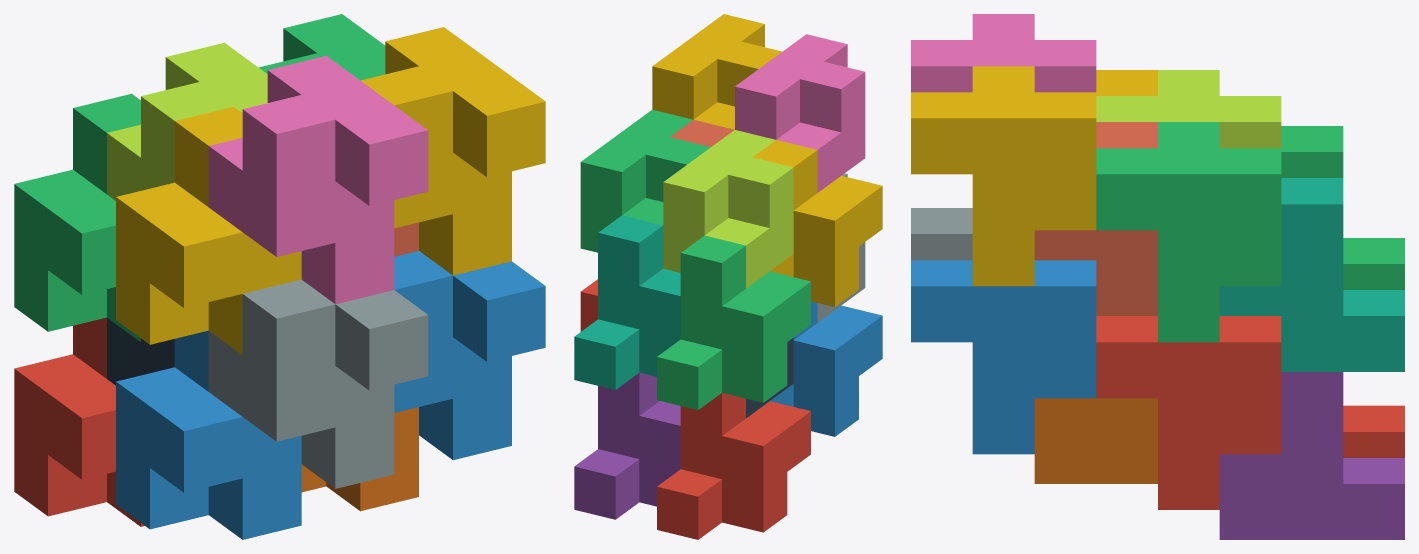
The model's file is tiling.obj.
3 views of the same model, side by side, from view 1: azimuth 30°, elevation 25°; view 2: azimuth 150°, elevation 25°; view 3: azimuth 270°, elevation 25° (orthographic). The views are drawn at different scales.
Visible parts, largest first — view 1: copy_2_domain_4, copy_2_domain_2, copy_2_domain_8, copy_1_domain_2, copy_1_domain_4, copy_2_domain_6, copy_1_domain_3, copy_1_domain_1, copy_2_domain_3, copy_2_domain_7, copy_1_domain_6, copy_2_domain_1 (+1 smaller); view 2: copy_1_domain_3, copy_1_domain_1, copy_2_domain_3, copy_1_domain_7, copy_2_domain_4, copy_1_domain_5, copy_1_domain_4, copy_2_domain_7, copy_1_domain_2, copy_2_domain_8, copy_1_domain_8, copy_2_domain_5 (+2 smaller); view 3: copy_2_domain_8, copy_2_domain_7, copy_2_domain_6, copy_2_domain_5, copy_1_domain_5, copy_1_domain_7, copy_1_domain_6, copy_2_domain_4, copy_1_domain_8, copy_2_domain_3, copy_1_domain_3, copy_1_domain_1 (+2 smaller).
Boxes of the visible parts, left/top/right/bottom form: copy_2_domain_4: left=208, top=55, right=428, bottom=304; copy_2_domain_2: left=208, top=279, right=428, bottom=488; copy_2_domain_8: left=360, top=27, right=545, bottom=275; copy_1_domain_2: left=116, top=330, right=301, bottom=539; copy_1_domain_4: left=116, top=107, right=301, bottom=354; copy_2_domain_6: left=394, top=251, right=545, bottom=460; copy_1_domain_3: left=14, top=93, right=140, bottom=341; copy_1_domain_1: left=14, top=317, right=144, bottom=526; copy_2_domain_3: left=107, top=42, right=267, bottom=200; copy_2_domain_7: left=259, top=14, right=385, bottom=80; copy_1_domain_6: left=301, top=407, right=418, bottom=511; copy_2_domain_1: left=107, top=318, right=174, bottom=385; copy_1_domain_3: left=657, top=235, right=810, bottom=409; copy_1_domain_1: left=657, top=393, right=810, bottom=539; copy_2_domain_3: left=663, top=130, right=793, bottom=288; copy_1_domain_7: left=574, top=215, right=680, bottom=389; copy_2_domain_4: left=735, top=34, right=865, bottom=192; copy_1_domain_5: left=574, top=372, right=680, bottom=519; copy_1_domain_4: left=753, top=140, right=882, bottom=306; copy_2_domain_7: left=580, top=109, right=710, bottom=252; copy_1_domain_2: left=770, top=301, right=882, bottom=436; copy_2_domain_8: left=652, top=14, right=781, bottom=129; copy_1_domain_8: left=670, top=119, right=734, bottom=146; copy_2_domain_5: left=580, top=279, right=597, bottom=331; copy_2_domain_8: left=911, top=66, right=1096, bottom=286; copy_2_domain_7: left=1096, top=122, right=1281, bottom=342; copy_2_domain_6: left=911, top=260, right=1096, bottom=454; copy_2_domain_5: left=1096, top=316, right=1281, bottom=509; copy_1_domain_5: left=1219, top=372, right=1404, bottom=539; copy_1_domain_7: left=1219, top=178, right=1404, bottom=371; copy_1_domain_6: left=1034, top=398, right=1157, bottom=483; copy_2_domain_4: left=911, top=14, right=1096, bottom=92; copy_1_domain_8: left=1034, top=122, right=1157, bottom=315; copy_2_domain_3: left=1096, top=70, right=1281, bottom=148; copy_1_domain_3: left=1281, top=126, right=1404, bottom=289; copy_1_domain_1: left=1343, top=405, right=1404, bottom=457.
Size of the model in its own units: 5 by 8 by 8.
